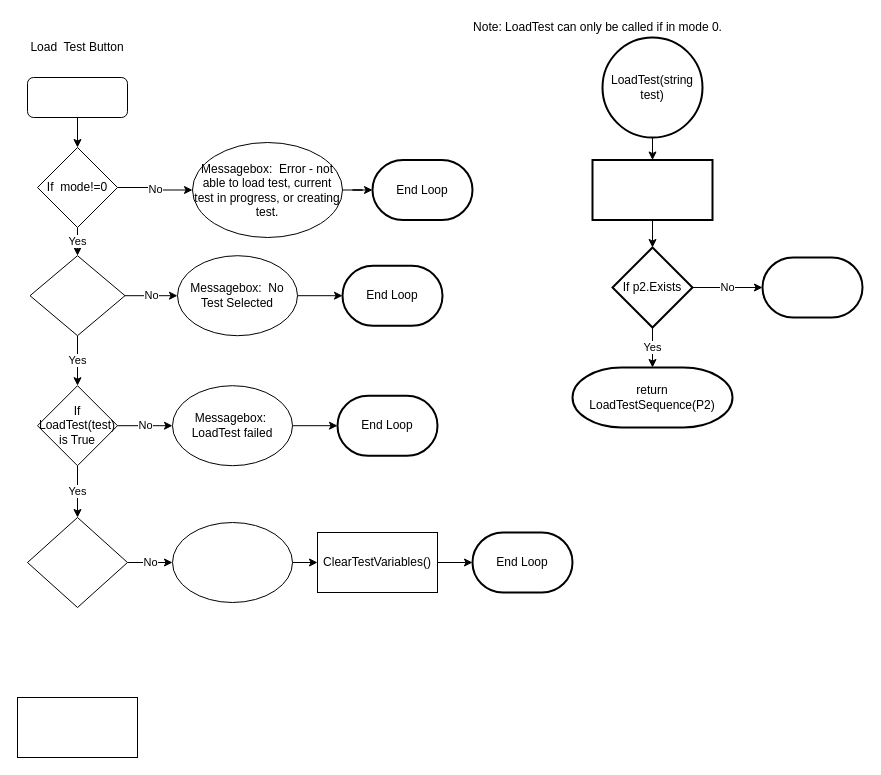
Some shapes in this 881 by 775 pixel diagram are drawn without their labels. The shapes that lost their labels are listed below. From the top down, each one's centre as x and y in pixels, then its label:
point 77,97: Load Test Pushed
point 652,189: P2 = self.path / "tests" / test
point 77,295: If Index of SelectedTest !=-1
point 812,287: return False
point 77,562: If ConnectSerial() == True
point 232,562: Messagebox: Error connecting to Serial.
